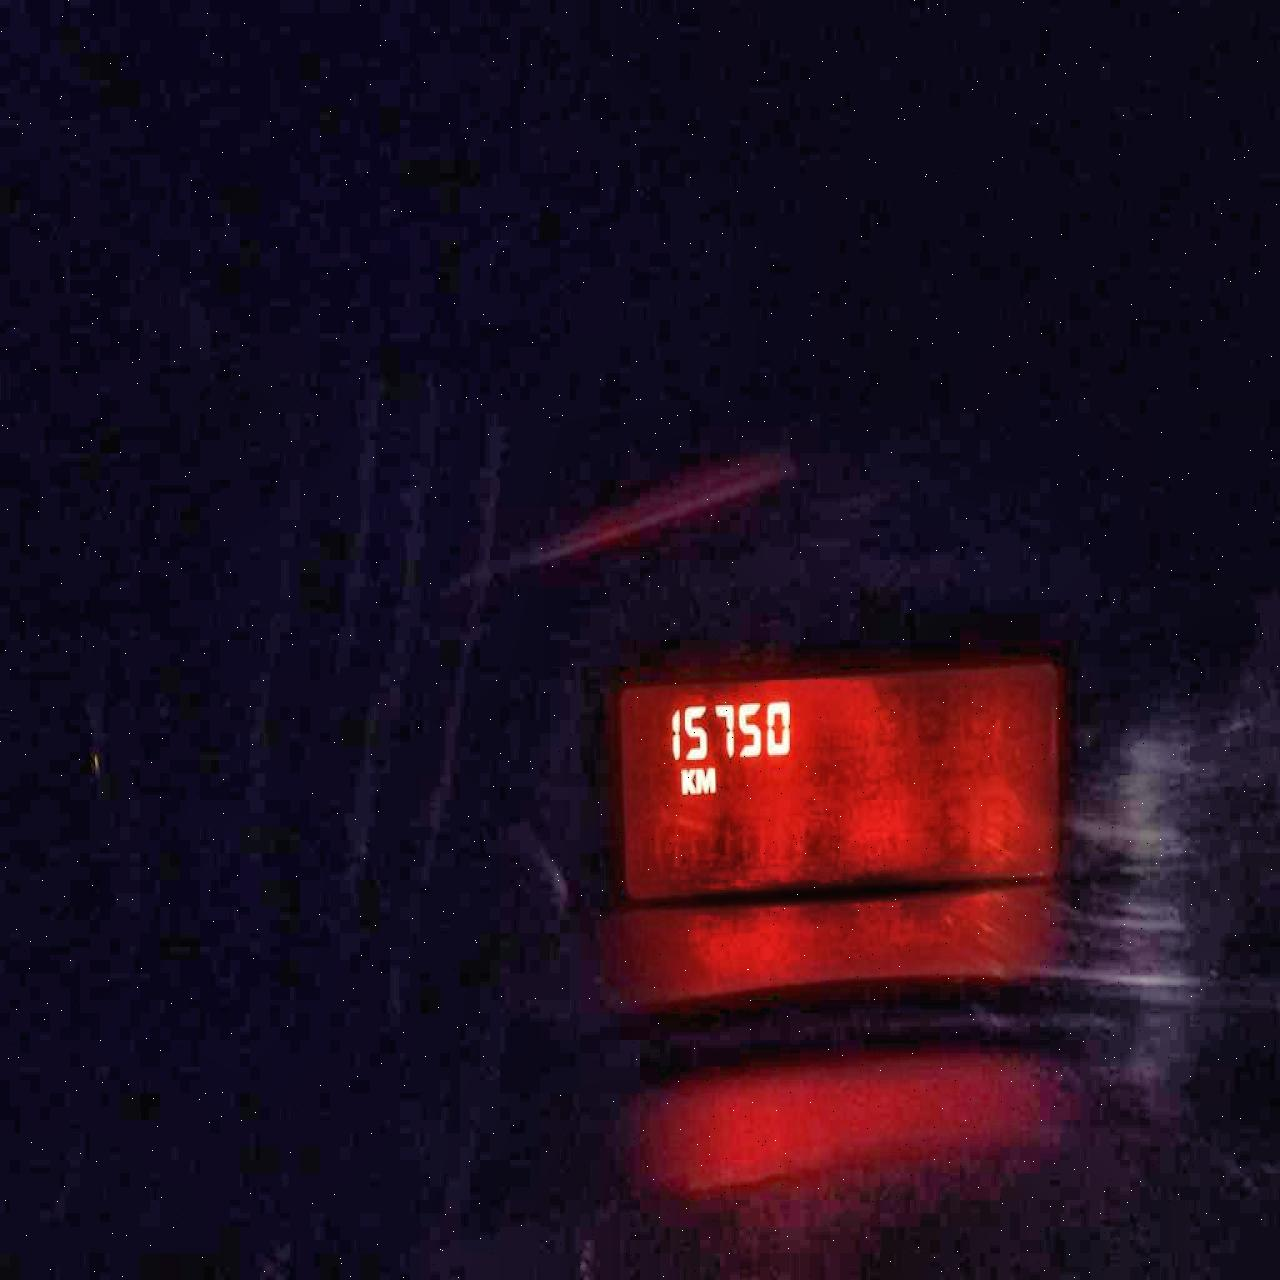0: (765, 699, 790, 757)
1: (670, 704, 680, 760)
5: (682, 703, 708, 760), (737, 701, 762, 756)
7: (713, 703, 734, 758)
X: (695, 765, 716, 795), (679, 767, 695, 794)
odometer: (606, 652, 1070, 913)
